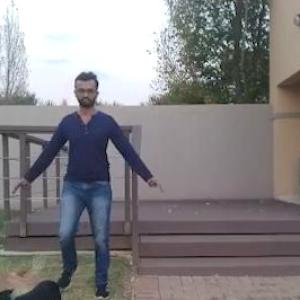land: (28, 76, 154, 292)
